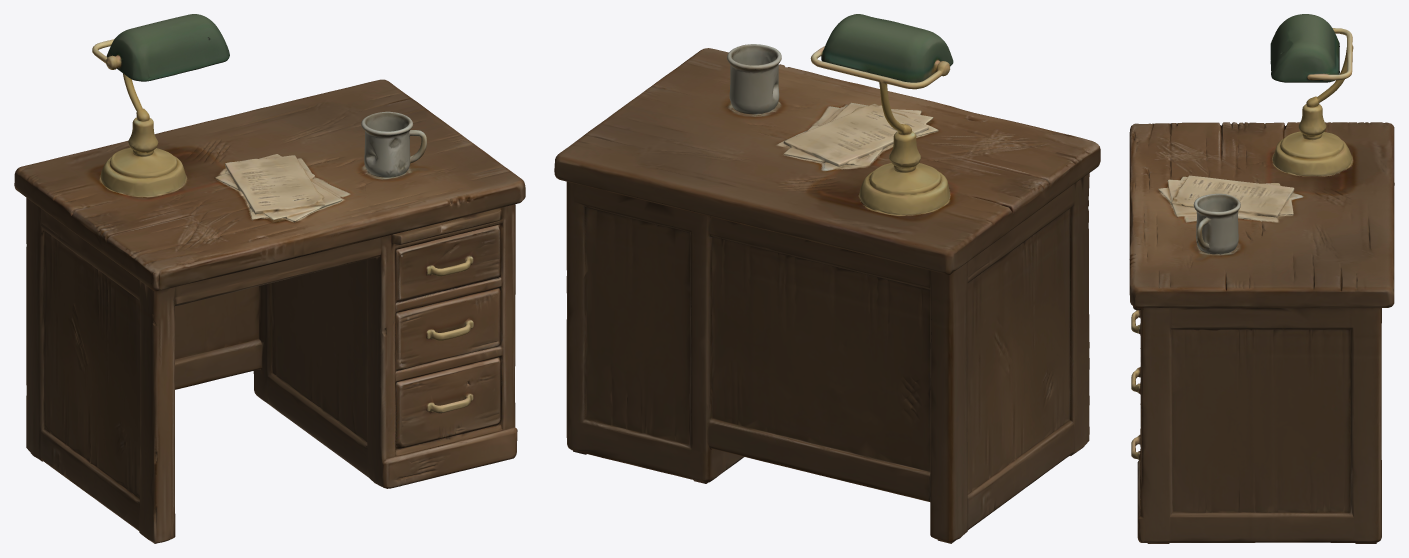
The model's file is silo81_desk.glb.
3 views of the same model, side by side, from view 1: azimuth 30°, elevation 25°; view 2: azimuth 150°, elevation 25°; view 3: azimuth 270°, elevation 25° (orthographic). The views are drawn at different scales.
Visible parts, largest first — view 1: tripo_node_aab72fed-86db-4f81-a9bc-7af8086d1de9; view 2: tripo_node_aab72fed-86db-4f81-a9bc-7af8086d1de9; view 3: tripo_node_aab72fed-86db-4f81-a9bc-7af8086d1de9.
Boxes of the visible parts, left/top/right/bottom form: tripo_node_aab72fed-86db-4f81-a9bc-7af8086d1de9: left=14, top=14, right=525, bottom=543; tripo_node_aab72fed-86db-4f81-a9bc-7af8086d1de9: left=554, top=14, right=1100, bottom=543; tripo_node_aab72fed-86db-4f81-a9bc-7af8086d1de9: left=1129, top=14, right=1394, bottom=543.
Bounding box in the file's own units: 0.8831 × 0.9797 × 0.5882.
Materials: 1 (1 with a texture image).
